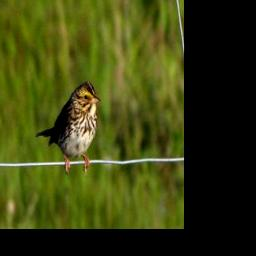Sparrow: (35, 79, 101, 176)
